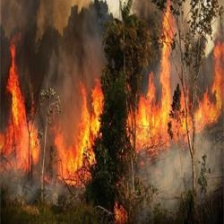fire: (1, 48, 103, 190), (138, 14, 222, 153)
